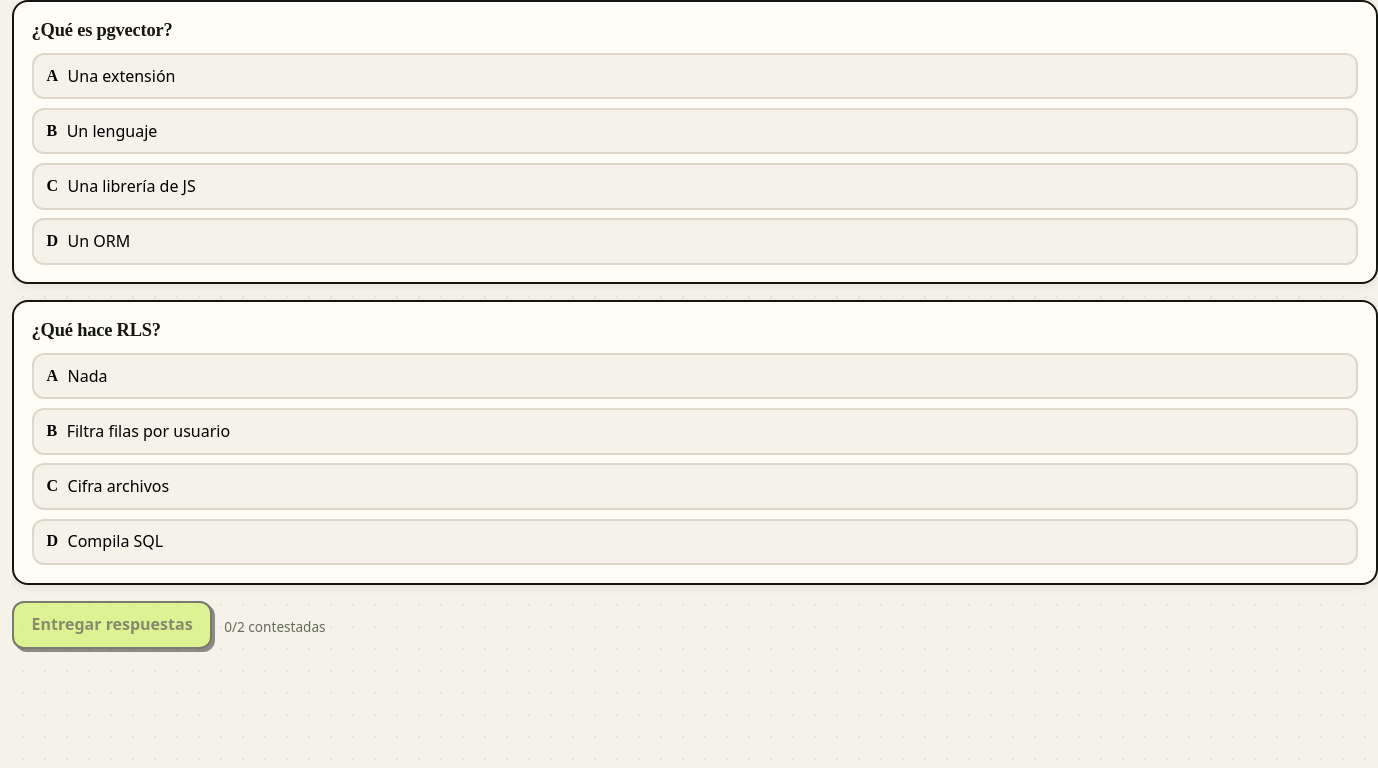
QuizRunner › permite seleccionar opciones y bloquea entrega incompleta
Click the button "A Una extensión" at (122, 76), box [32,53,1358,99]
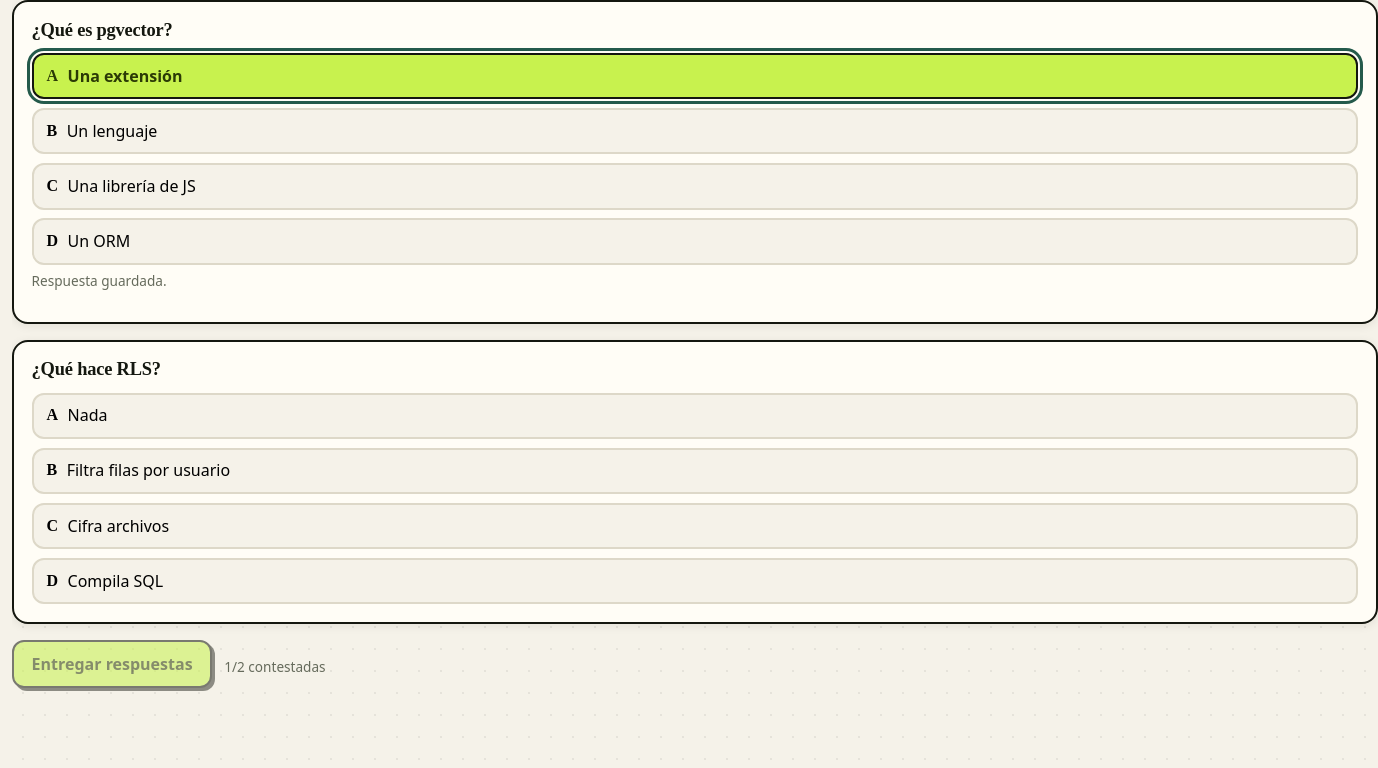
Check: the button "Entregar respuestas" is disabled, box [12,640,212,688]
Check: the text "1/2 contestadas" is shown, box [224,656,326,677]
